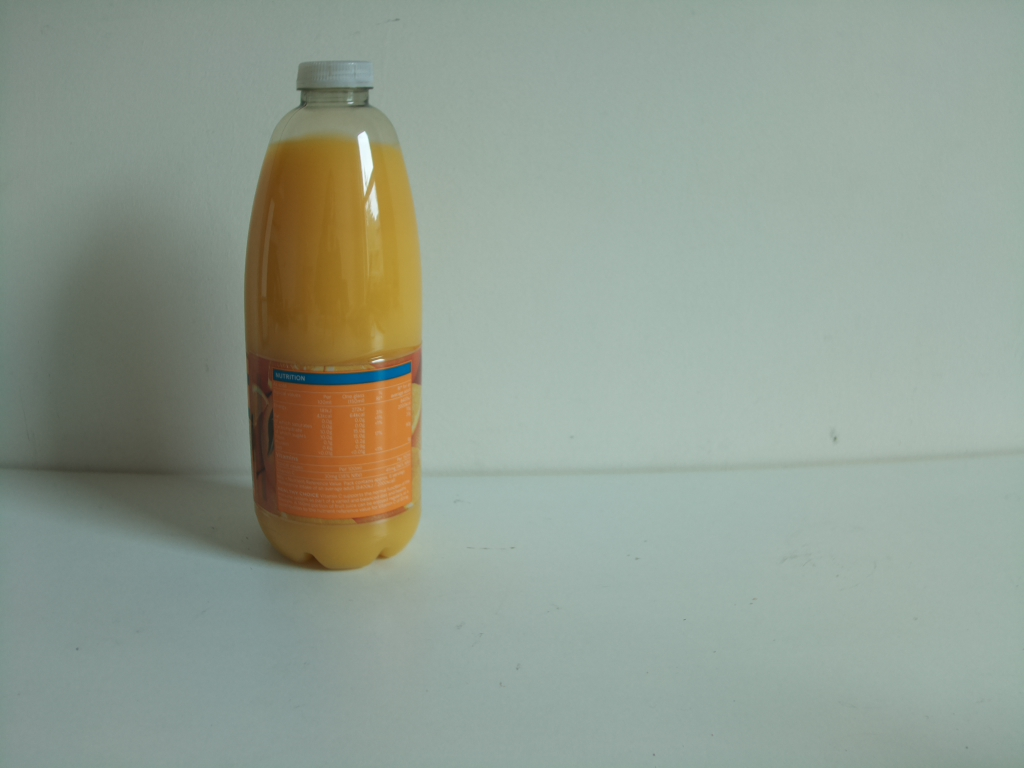juice: (240, 47, 424, 573)
